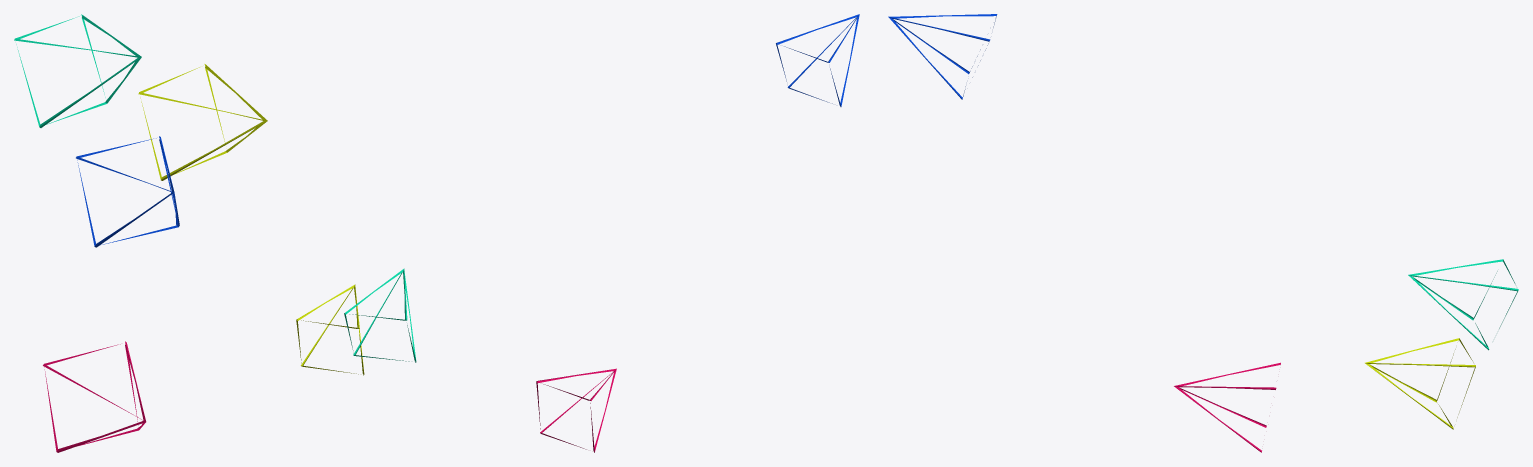
Rendered from dog_pi3.glb.
3 renders of one model, left to right at view 1: azimuth 30°, elevation 25°; view 2: azimuth 150°, elevation 25°; view 3: azimuth 270°, elevation 25°, orthographic. The views are drawn at different scales.
Parts seen in each view (by area): view 1: world; view 2: world; view 3: world.
Boxes of the visible parts, x1,y1,x2,y2 form: world: (14, 14, 267, 452); world: (296, 14, 859, 452); world: (888, 14, 1518, 452).
Size of the model in its own units: 0.3987 by 0.3994 by 0.6295.
